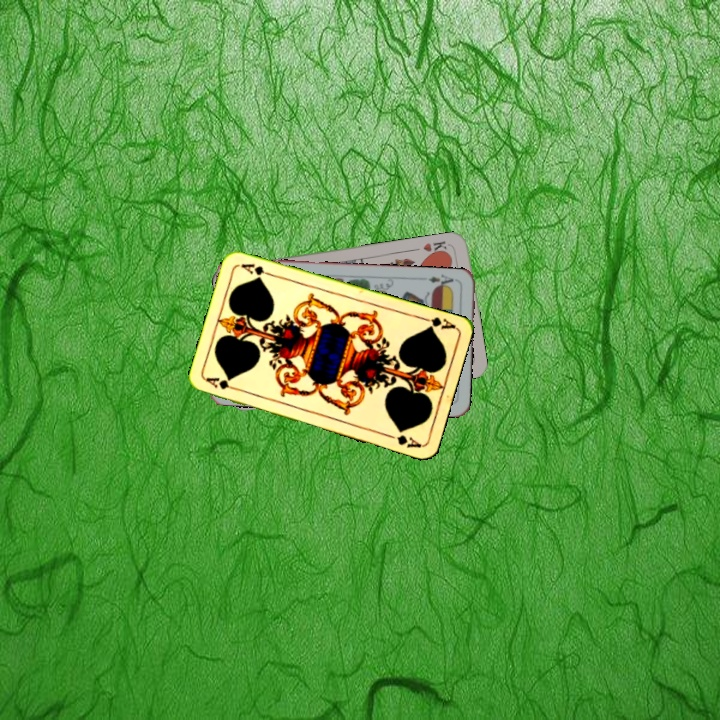EA: (424, 271, 456, 291)
GA: (202, 373, 242, 394), (417, 313, 457, 332)
HK: (419, 237, 453, 258)
